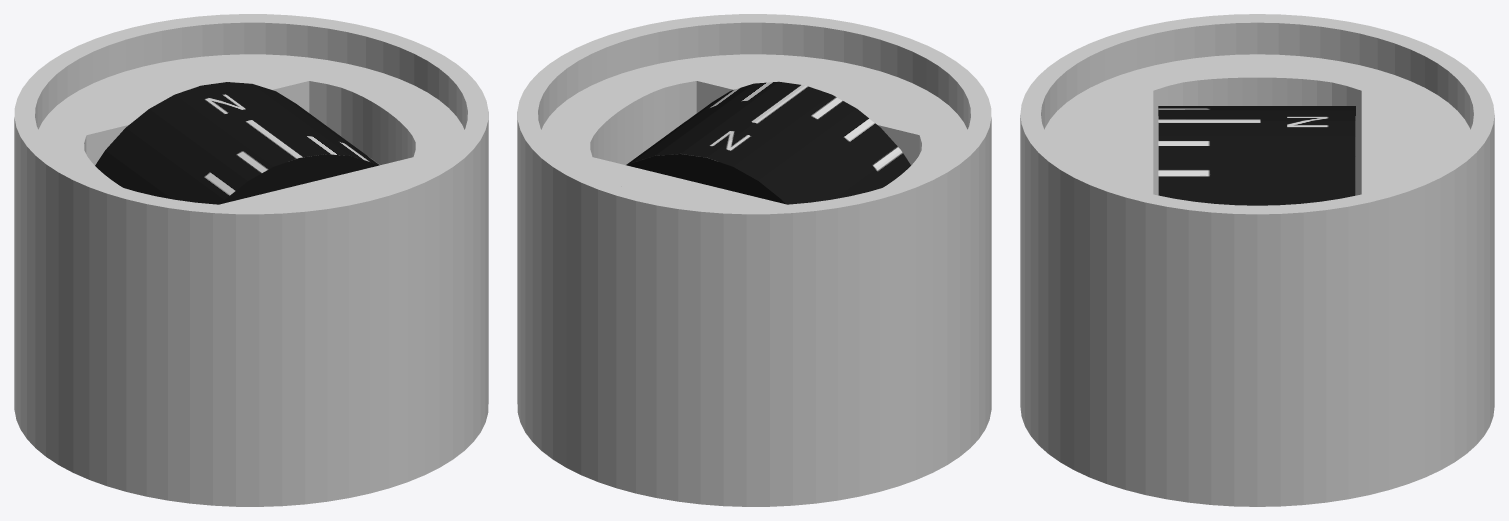
File: InstrumentsCompassHeading.fbx
The picture shows the model from 3 angles, left to right: view 1: azimuth 30°, elevation 25°; view 2: azimuth 150°, elevation 25°; view 3: azimuth 270°, elevation 25°; orthographic projection.
Visible parts, largest first — view 1: ChassisCompassHeading, IndicatorCompassH; view 2: ChassisCompassHeading, IndicatorCompassH; view 3: ChassisCompassHeading, IndicatorCompassH.
Boxes of the visible parts, x1,y1,x2,y2 form: ChassisCompassHeading: (14, 14, 488, 506); IndicatorCompassH: (95, 82, 379, 204); ChassisCompassHeading: (517, 14, 991, 506); IndicatorCompassH: (626, 81, 910, 204); ChassisCompassHeading: (1020, 14, 1494, 506); IndicatorCompassH: (1158, 106, 1355, 205).
Bounding box in the file's own units: 130 × 88.79 × 130.
